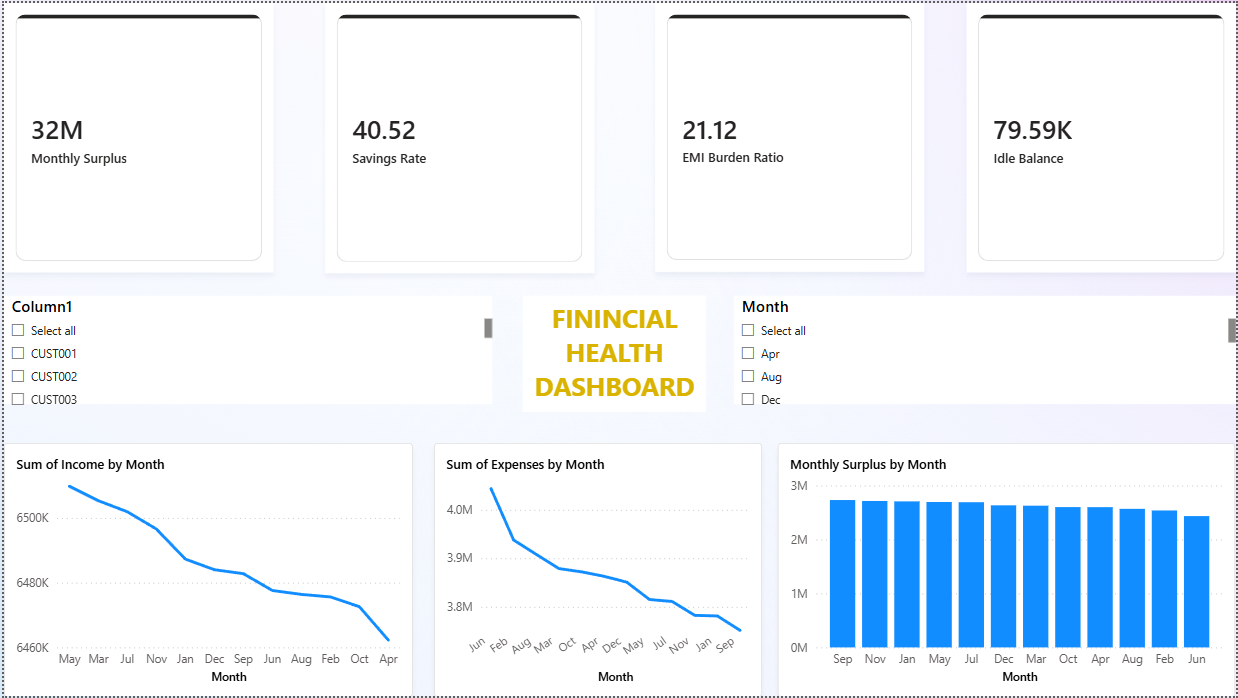

Layout of this report page (visuals, bound fields, positions):
{"tool":"powerbi","page":{"name":"FININCIAL HEALTH DASHBOARD","canvas":[1280,720],"ordinal":0},"visuals":[{"type":"cardVisual","fields":{"Data":["Monthly Financial Data.Monthly Surplus"]},"box":[0,0,279.7,279.7],"z":0},{"type":"cardVisual","fields":{"Data":["Monthly Financial Data.Savings Rate"]},"box":[333.3,0,279.7,281.2],"z":1000},{"type":"cardVisual","fields":{"Data":["Monthly Financial Data.EMI Burden Ratio"]},"box":[676.8,0,279.7,279.7],"z":2000},{"type":"cardVisual","fields":{"Data":["Monthly Financial Data.Idle Balance"]},"box":[1000.3,0,280,280],"z":3000},{"type":"lineChart","fields":{"Category":["Monthly Financial Data.Month"],"Y":["Sum(Monthly Financial Data.Income)"]},"box":[0,456.5,424.6,263.8],"z":4000},{"type":"lineChart","fields":{"Category":["Monthly Financial Data.Month"],"Y":["Sum(Monthly Financial Data.Expenses)"]},"box":[446.4,456.5,340.6,263.8],"z":5000},{"type":"lineClusteredColumnComboChart","fields":{"Category":["Monthly Financial Data.Month"],"Y":["Monthly Financial Data.Monthly Surplus"]},"box":[804.3,456.5,475.4,263.8],"z":6000},{"type":"slicer","fields":{"Values":["Customers.Column1"]},"box":[0,304.3,507.2,113],"z":7000},{"type":"slicer","fields":{"Values":["Monthly Financial Data.Month"]},"box":[758,304.3,521.7,113],"z":8000},{"type":"textbox","box":[539.3,304.5,190.8,121.1],"z":9000}]}

Visuals, with their boxes in screenshot pixels (x1, y1, x2, y2), scaled from the page's 1280x720 canvas onto the 1238x698 screenshot:
cardVisual - Monthly Financial Data.Monthly Surplus: l=0, t=0, r=271, b=271
cardVisual - Monthly Financial Data.Savings Rate: l=322, t=0, r=593, b=273
cardVisual - Monthly Financial Data.EMI Burden Ratio: l=655, t=0, r=925, b=271
cardVisual - Monthly Financial Data.Idle Balance: l=967, t=0, r=1237, b=271
lineChart - Monthly Financial Data.Month x Sum(Monthly Financial Data.Income): l=0, t=443, r=411, b=697
lineChart - Monthly Financial Data.Month x Sum(Monthly Financial Data.Expenses): l=432, t=443, r=761, b=697
lineClusteredColumnComboChart - Monthly Financial Data.Month x Monthly Financial Data.Monthly Surplus: l=778, t=443, r=1237, b=697
slicer - Customers.Column1: l=0, t=295, r=491, b=405
slicer - Monthly Financial Data.Month: l=733, t=295, r=1237, b=405
textbox: l=522, t=295, r=706, b=413
